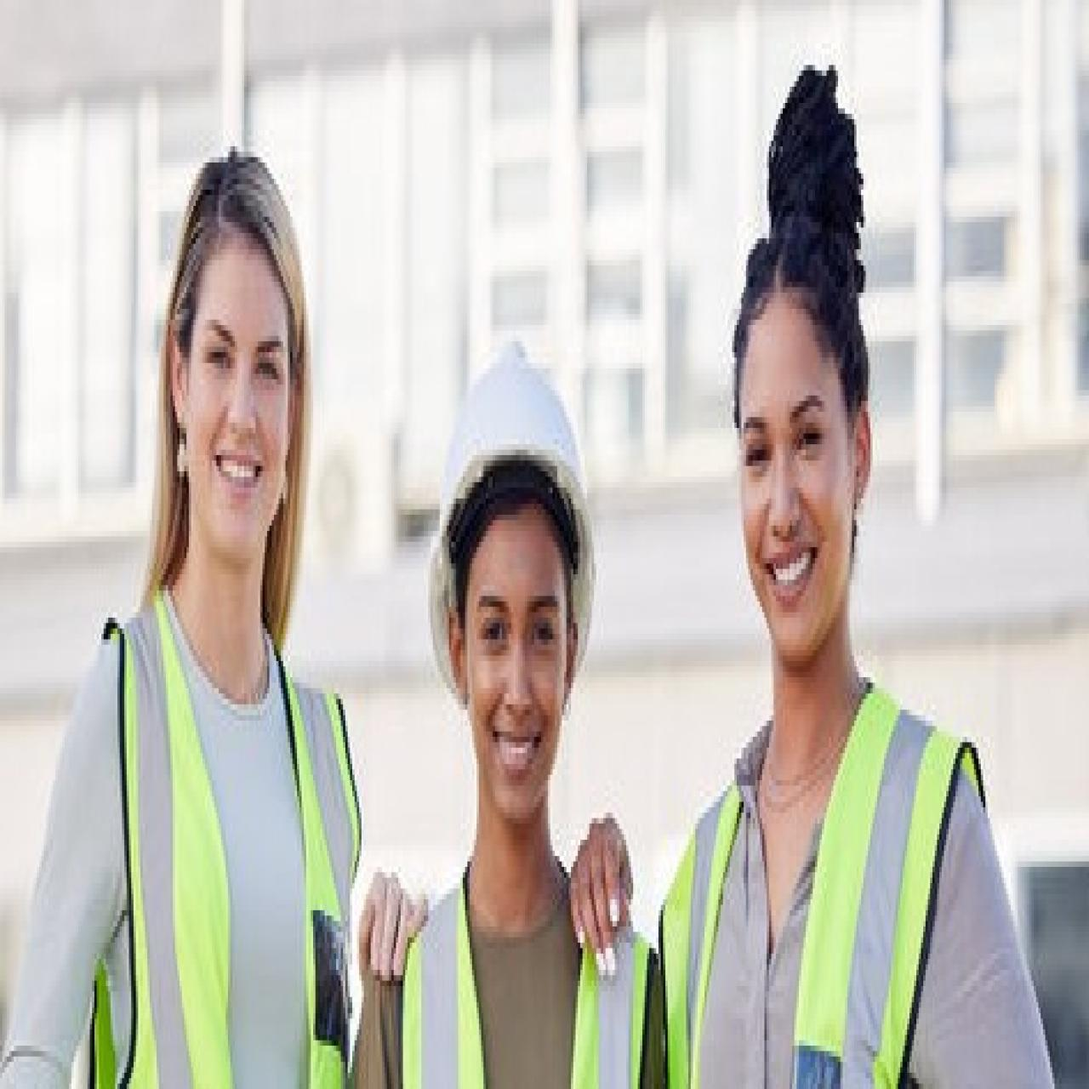Person: (653, 82, 1052, 1089), (20, 123, 387, 1089), (360, 299, 653, 1089)
Safety_Vest: (654, 673, 985, 1089), (86, 576, 348, 1089), (383, 827, 642, 1089)
